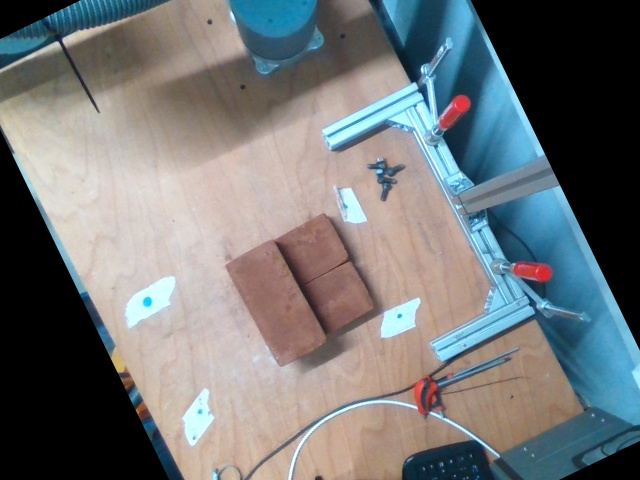brick: (225, 242, 325, 366)
